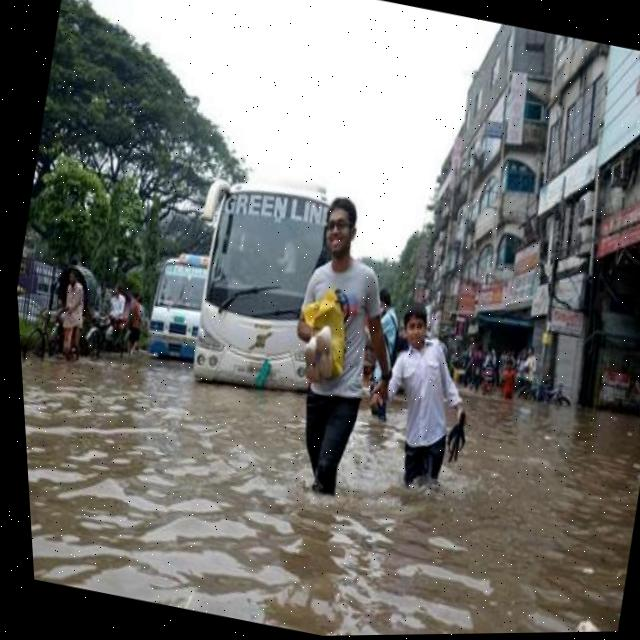civilian: (253, 181, 419, 518), (348, 285, 497, 502), (38, 266, 100, 367)
